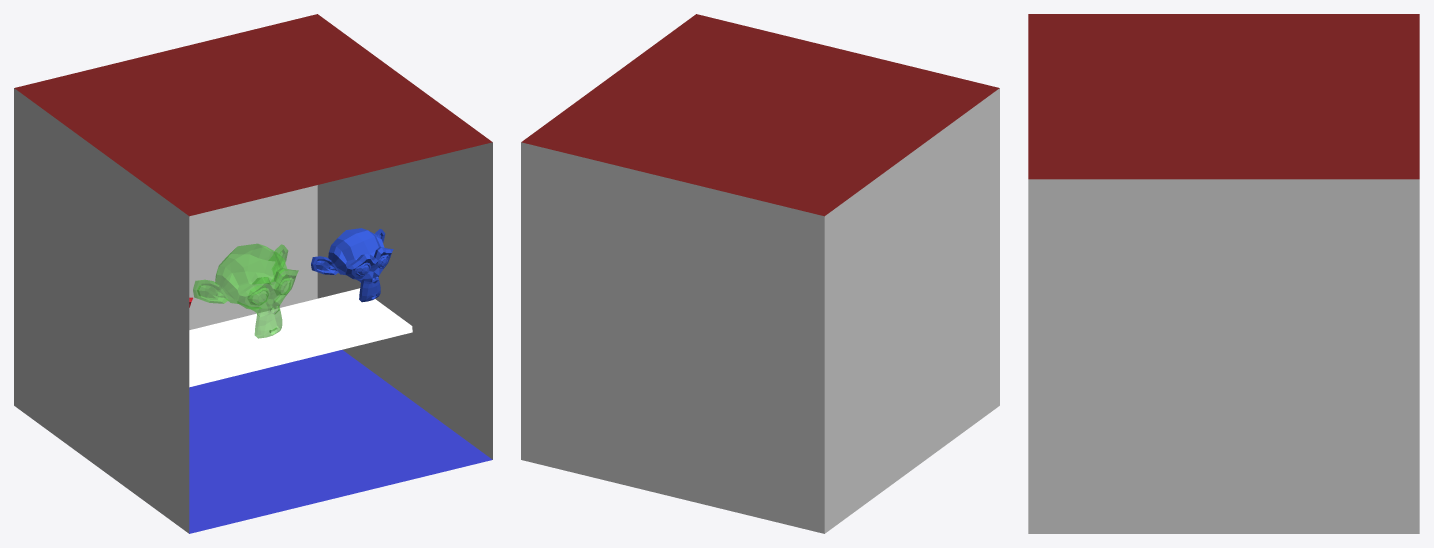
Rendered from Monkey-rgb.glb.
3 views of the same model, side by side, from view 1: azimuth 30°, elevation 25°; view 2: azimuth 150°, elevation 25°; view 3: azimuth 270°, elevation 25° (orthographic). The views are drawn at different scales.
Visible parts, largest first — view 1: Walls, Ceiling, Floor, Cube, Suzanne, Suzanne.002; view 2: Walls, Ceiling; view 3: Walls, Ceiling.
Part boxes in pixels (x1,y1,x2,y2): Walls: (14, 88, 492, 533); Ceiling: (14, 14, 492, 216); Floor: (189, 350, 492, 533); Cube: (189, 288, 412, 387); Suzanne: (193, 243, 298, 338); Suzanne.002: (311, 228, 393, 302); Walls: (521, 88, 999, 533); Ceiling: (521, 14, 999, 216); Walls: (1028, 179, 1419, 533); Ceiling: (1028, 14, 1419, 179).
Size of the model in its own units: 2 by 2 by 2.
